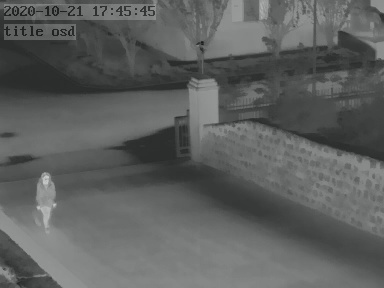person: (33, 168, 58, 232)
